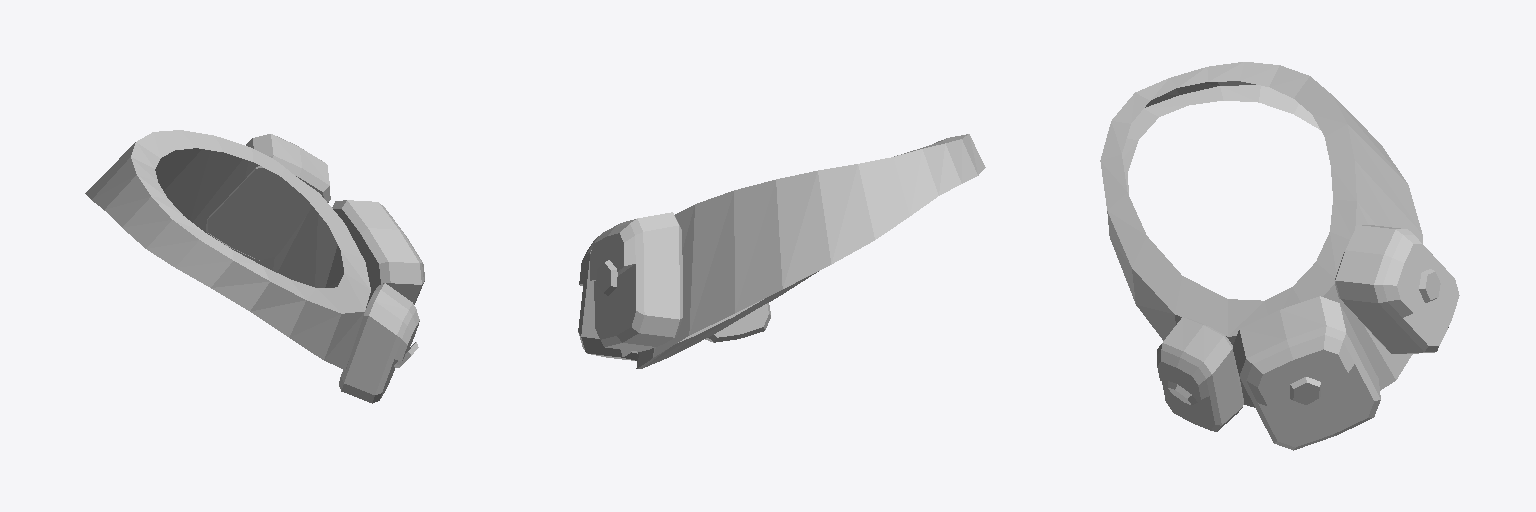
Rendered from Belt Sculpt_Part 1.obj.
3 renders of one model, left to right at view 1: azimuth 30°, elevation 25°; view 2: azimuth 150°, elevation 25°; view 3: azimuth 270°, elevation 25°, orthographic.
Parts seen in each view (by area): view 1: Belt; view 2: Belt; view 3: Belt.
Boxes of the visible parts, box(x1,y1,x2,y2) form: Belt: box(85, 130, 424, 403); Belt: box(578, 134, 985, 368); Belt: box(1100, 62, 1459, 450).
Size of the model in its own units: 3.29 by 2.49 by 3.13.